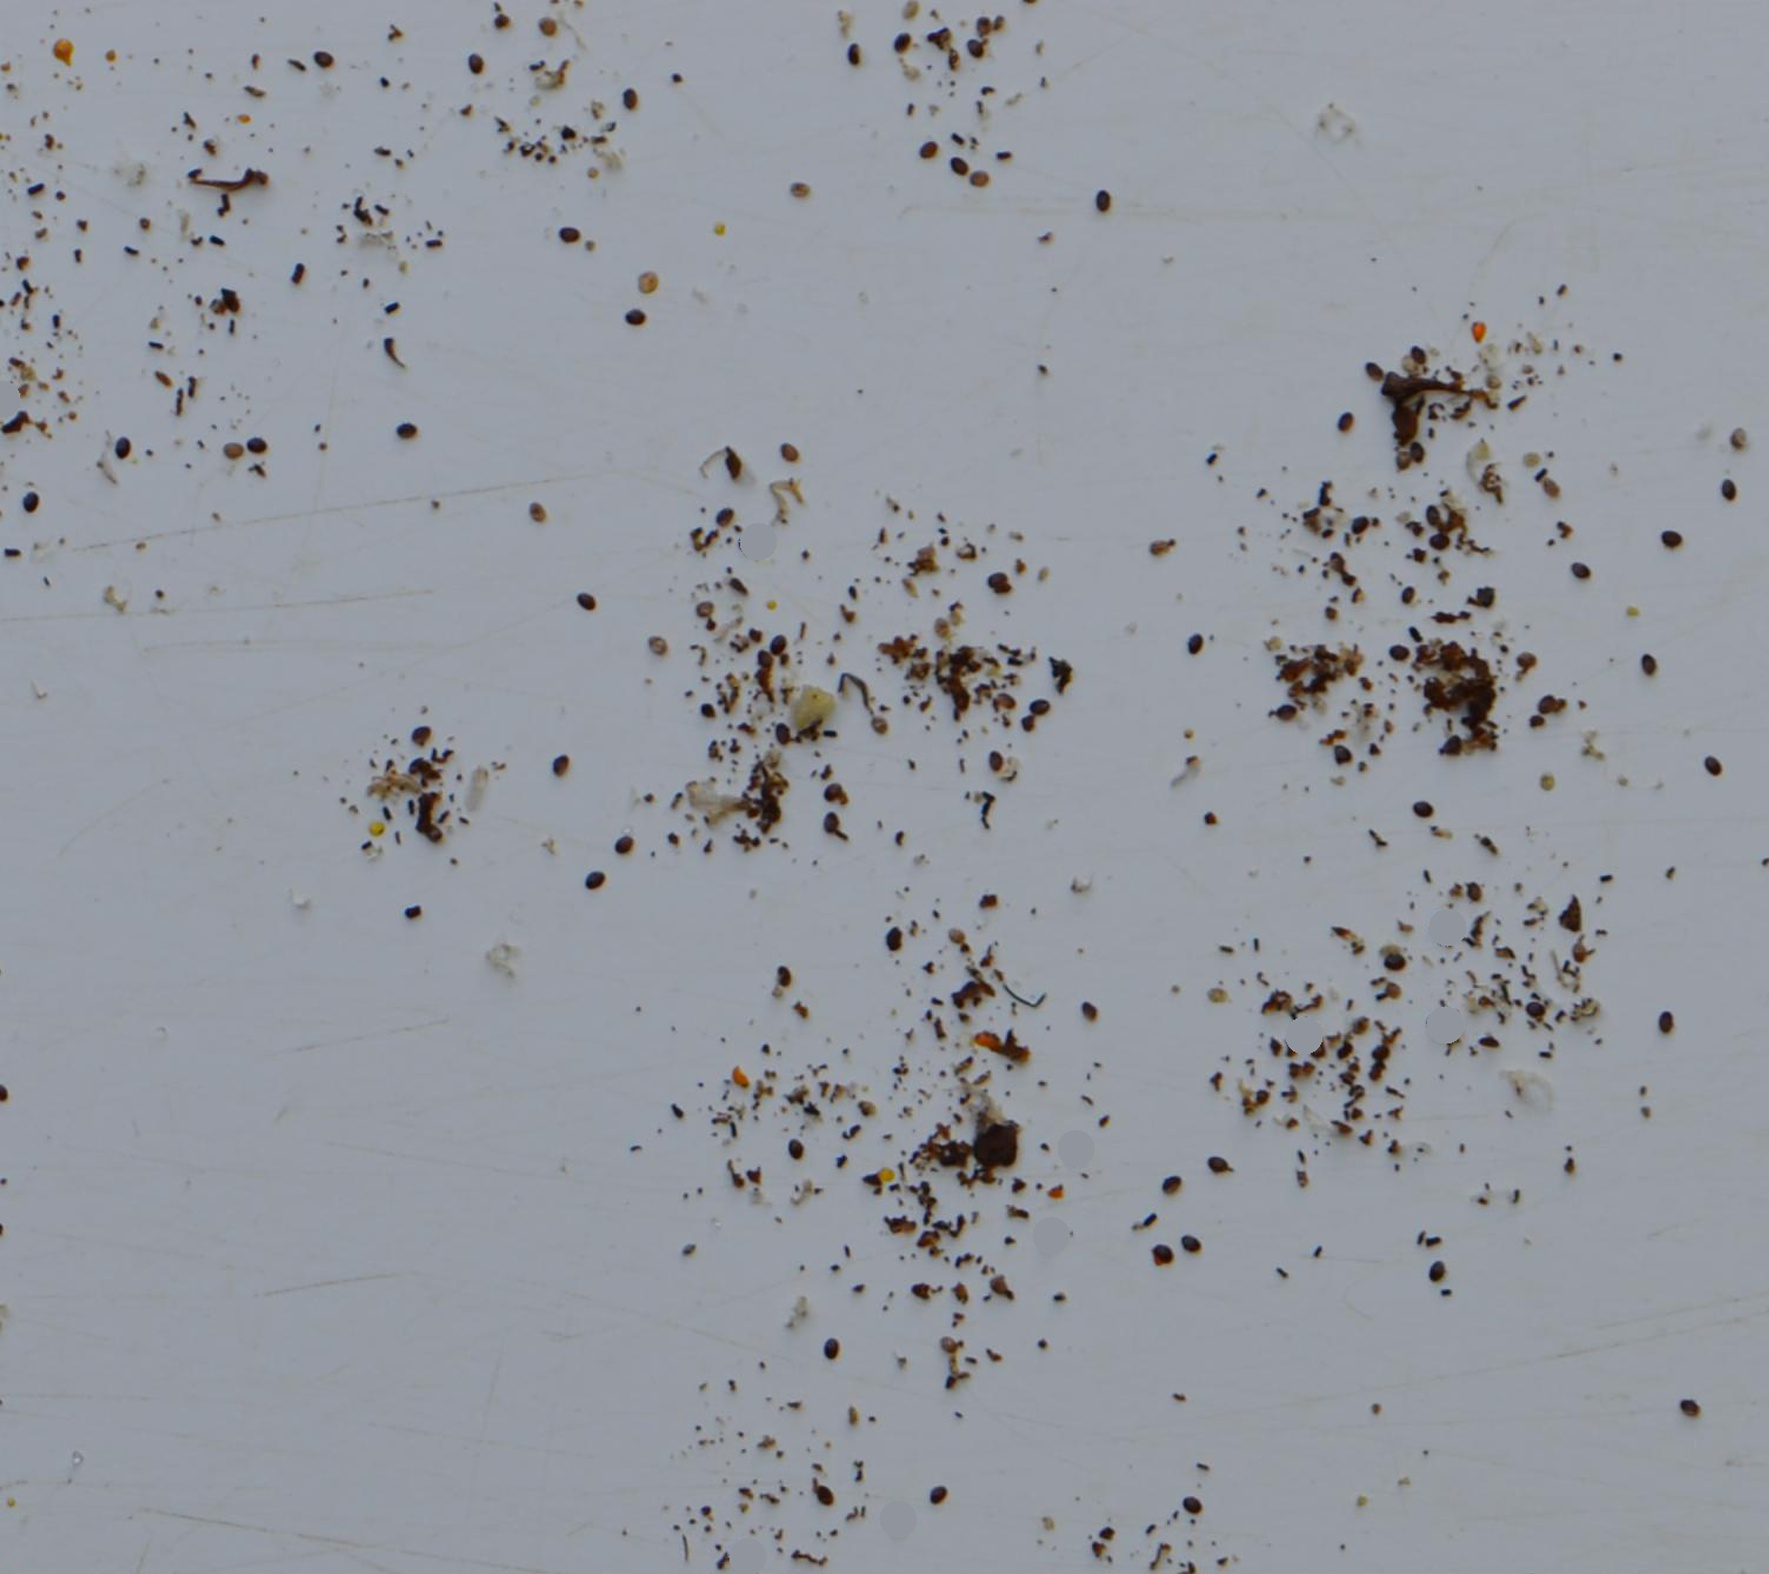Varroa: (833, 32, 874, 74), (856, 703, 898, 744), (869, 915, 912, 956), (1412, 662, 1453, 703), (1356, 1029, 1397, 1070), (1559, 928, 1600, 969), (945, 153, 976, 182), (220, 435, 248, 466), (761, 638, 789, 668), (1157, 1173, 1184, 1203), (1074, 1000, 1102, 1030), (1535, 696, 1562, 723), (1426, 1263, 1451, 1291), (1720, 477, 1746, 506), (619, 87, 644, 115), (970, 20, 995, 49), (315, 46, 339, 76), (1182, 631, 1210, 656), (584, 863, 609, 890), (1640, 650, 1666, 678), (407, 723, 435, 749), (1410, 346, 1436, 374), (524, 500, 550, 527), (825, 1332, 850, 1361), (986, 751, 1011, 779), (103, 444, 128, 473), (970, 169, 994, 198), (1702, 749, 1728, 775), (1570, 561, 1596, 586), (462, 52, 488, 77), (1679, 1401, 1705, 1427), (112, 433, 138, 459), (1366, 365, 1392, 390), (1178, 1497, 1204, 1522), (552, 752, 578, 778), (1427, 533, 1453, 559), (1331, 412, 1357, 438), (1460, 877, 1486, 902), (653, 629, 679, 655), (578, 586, 602, 614), (559, 223, 584, 251), (1181, 1232, 1205, 1260), (710, 512, 734, 539), (1398, 439, 1422, 466), (1514, 653, 1538, 681), (780, 438, 802, 466), (1383, 956, 1407, 981), (927, 1481, 951, 1507), (1093, 190, 1117, 216), (1388, 643, 1413, 667), (983, 571, 1008, 597), (1391, 583, 1415, 609), (1331, 741, 1356, 767), (20, 489, 43, 517), (891, 29, 913, 56), (812, 1484, 834, 1512), (1653, 1013, 1678, 1038), (1658, 527, 1682, 552), (400, 419, 424, 444), (1024, 697, 1049, 722), (778, 723, 802, 747), (812, 1329, 836, 1354), (1150, 1237, 1173, 1263), (1274, 699, 1296, 725), (824, 779, 847, 805), (824, 811, 847, 837), (1407, 801, 1432, 823), (772, 965, 795, 989), (1210, 1155, 1233, 1179), (967, 38, 989, 62), (1413, 448, 1436, 473), (941, 1334, 964, 1358), (620, 830, 641, 855), (783, 1136, 805, 1159), (625, 304, 647, 327), (695, 602, 717, 624), (1347, 520, 1369, 542), (991, 690, 1014, 713), (919, 137, 942, 160), (248, 435, 269, 459), (1526, 1001, 1549, 1022)
